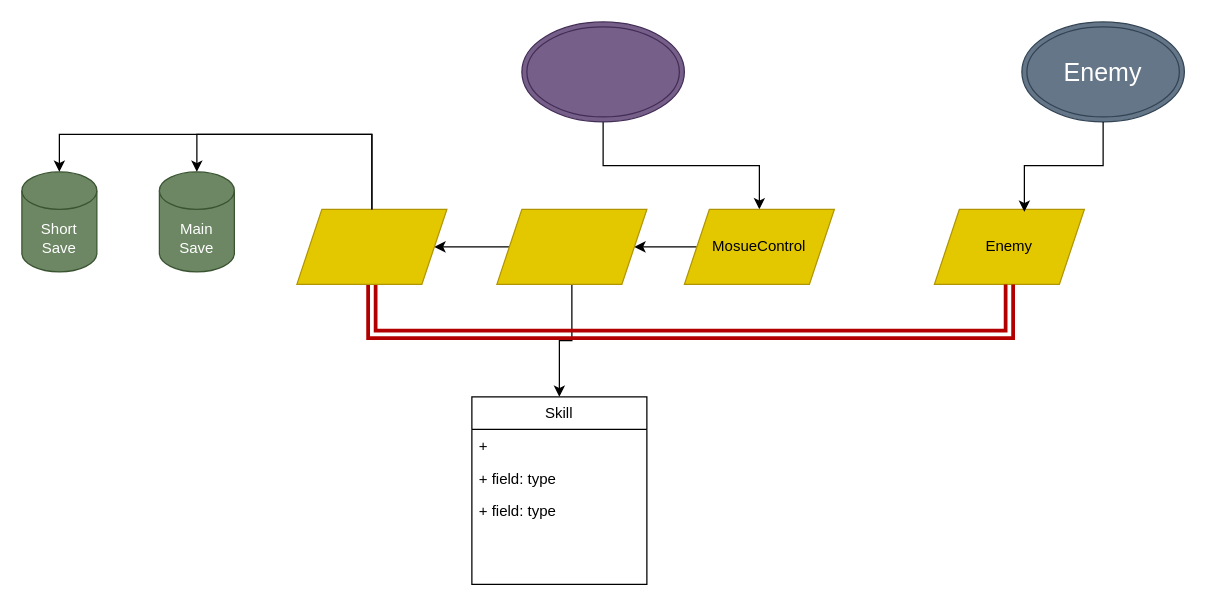
Some shapes in this 1206 by 610 pixel diagram are drawn without their labels. Each missing label, with the centre of its shape:
"Features" belongs at pixel 571 246.
"Features MathCalculate" belongs at pixel 371 246.
"Player" belongs at pixel 602 71.
